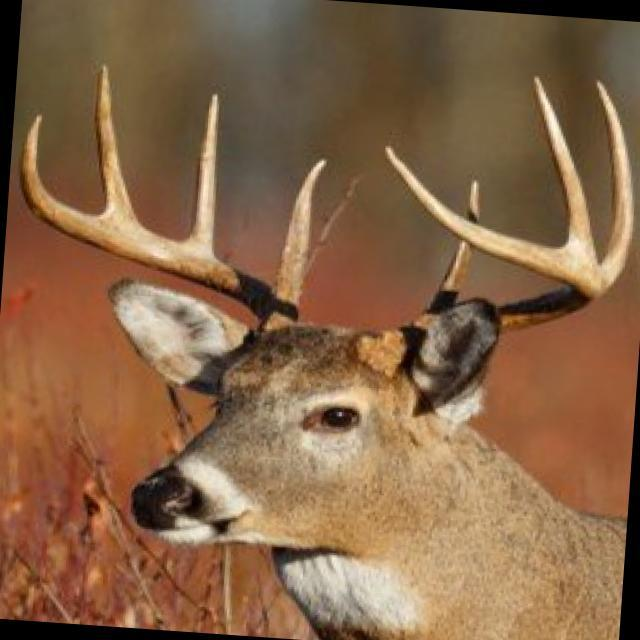R-G1: (274, 157, 326, 305)
R-G2: (186, 91, 219, 249)
R-G3: (95, 64, 139, 221)
